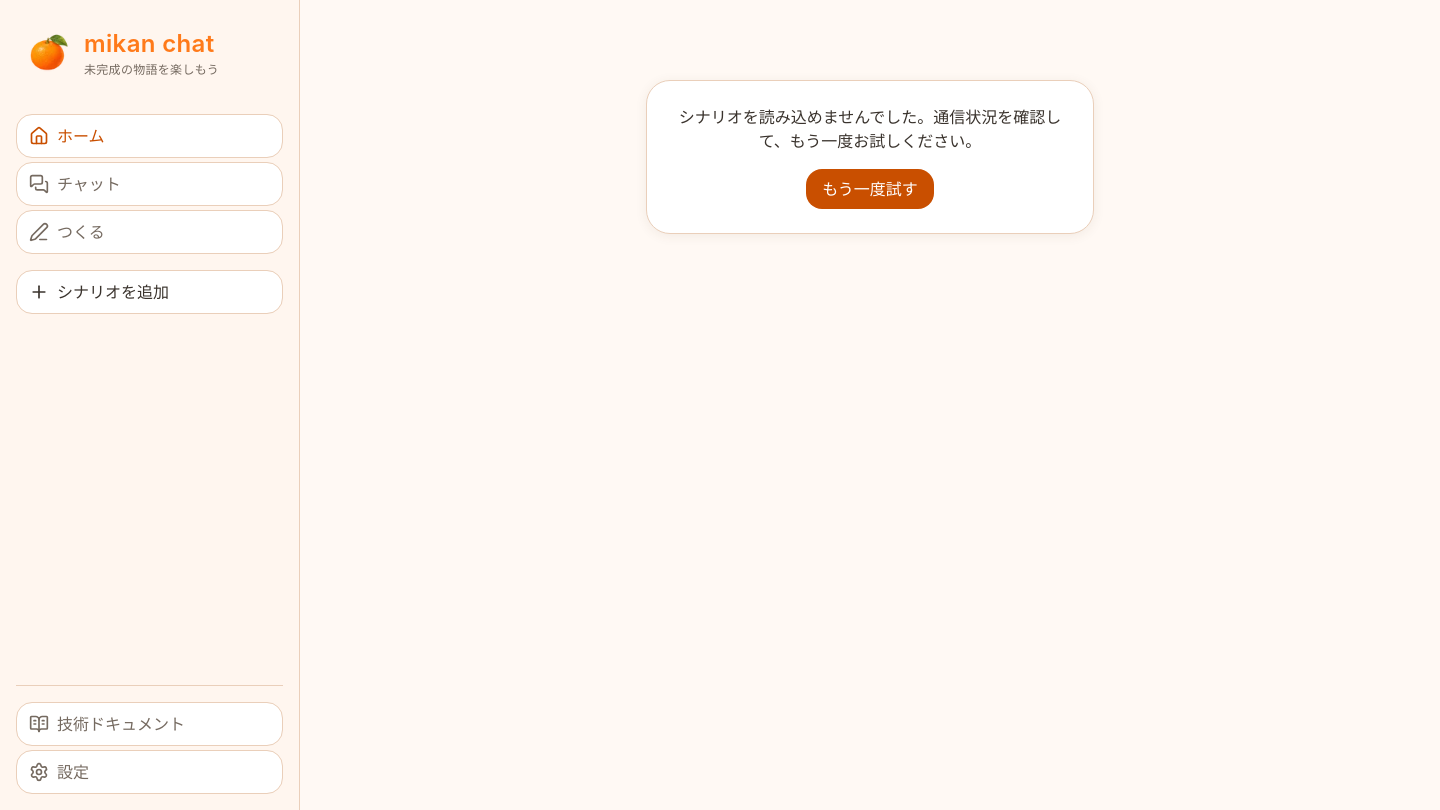
mikan chat UI flow › Web版の読み込み失敗後に再試行できる
This screenshot has width=1440, height=810.
Expected: the message shows "シナリオを読み込めませんでした", [679,107,1061,151]
Click the button "もう一度試す" at (870, 189), box [806,169,934,209]
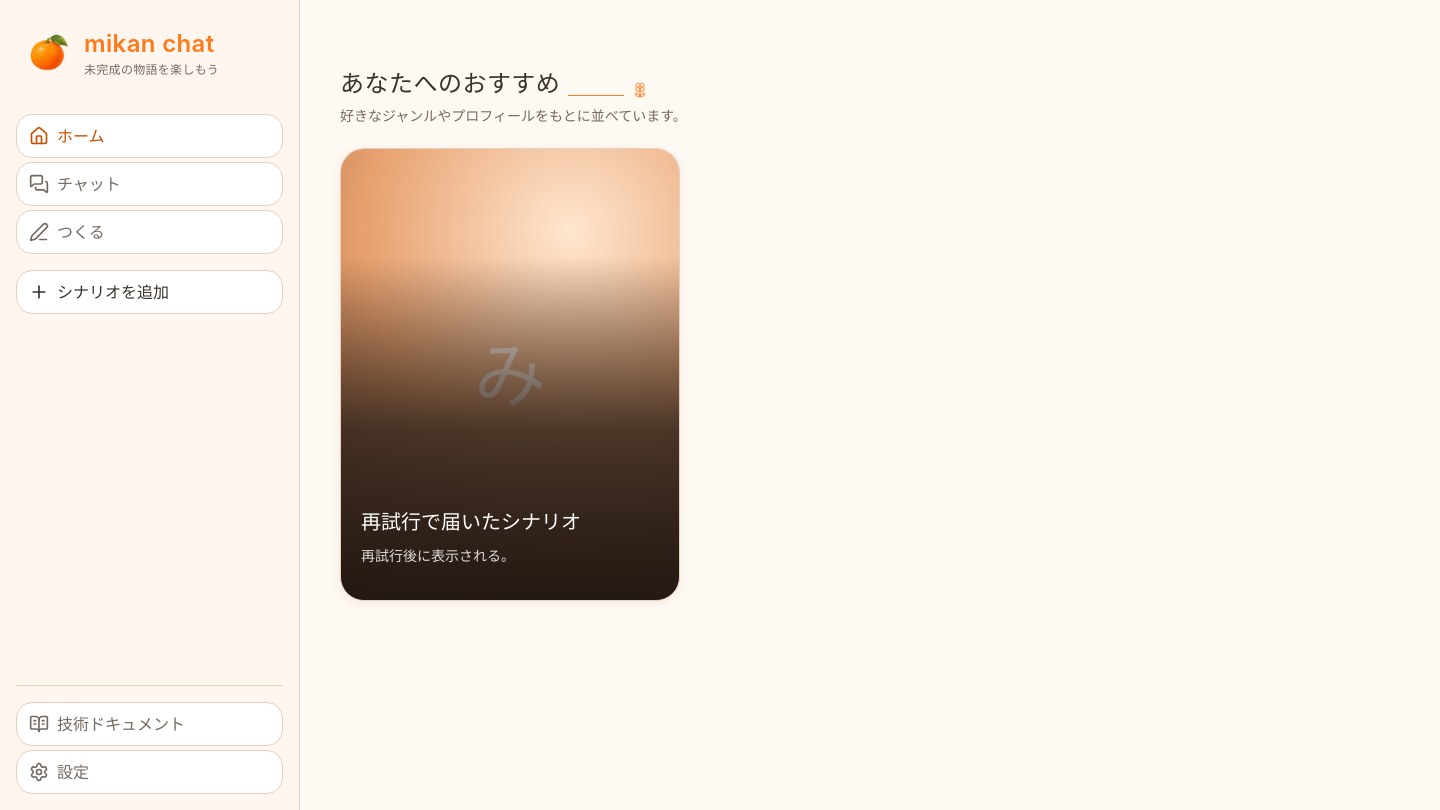
Now the button "み 再試行で届いたシナリオ 再試行後に表示される。" is shown, box [340,148,680,601]
